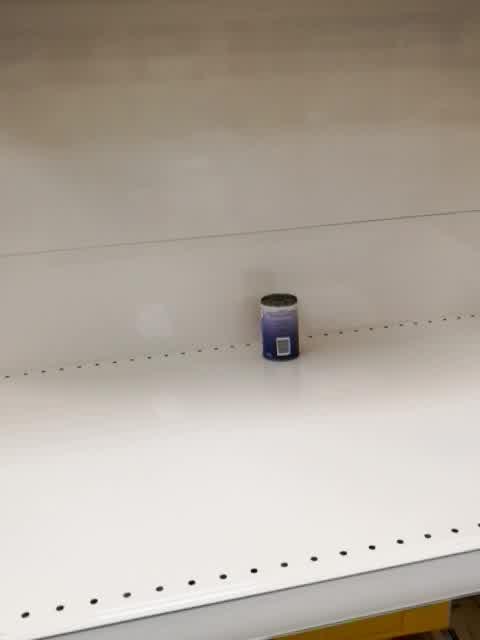sardine: (259, 292, 301, 363)
